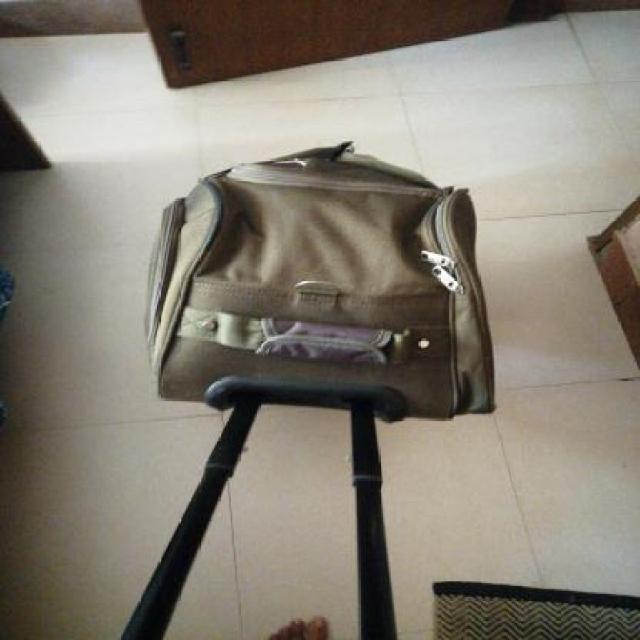backpack: (120, 134, 505, 640)
